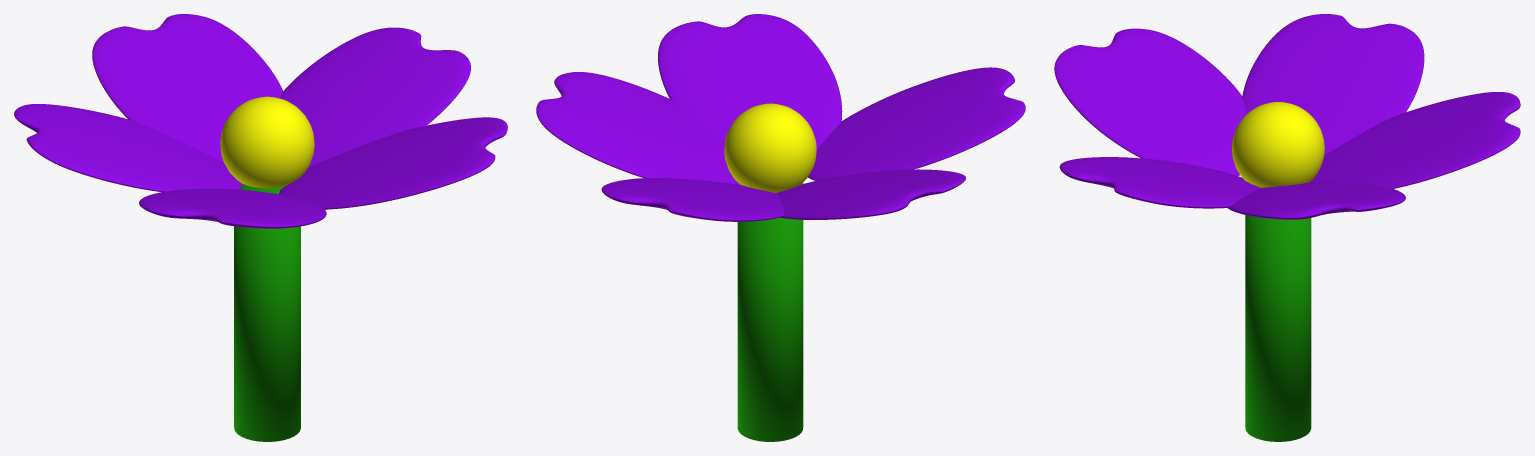
Rendered from PurpleFlower.fbx.
3 renders of one model, left to right at view 1: azimuth 30°, elevation 25°; view 2: azimuth 150°, elevation 25°; view 3: azimuth 270°, elevation 25°, orthographic. The views are drawn at different scales.
Parts seen in each view (by area): view 1: PurpleFlower; view 2: PurpleFlower; view 3: PurpleFlower.
Boxes of the visible parts, x1,y1,x2,y2 form: PurpleFlower: [14, 14, 507, 441]; PurpleFlower: [536, 14, 1025, 441]; PurpleFlower: [1054, 14, 1520, 441].
Bounding box in the file's own units: 46.73 × 34.7 × 45.56.
